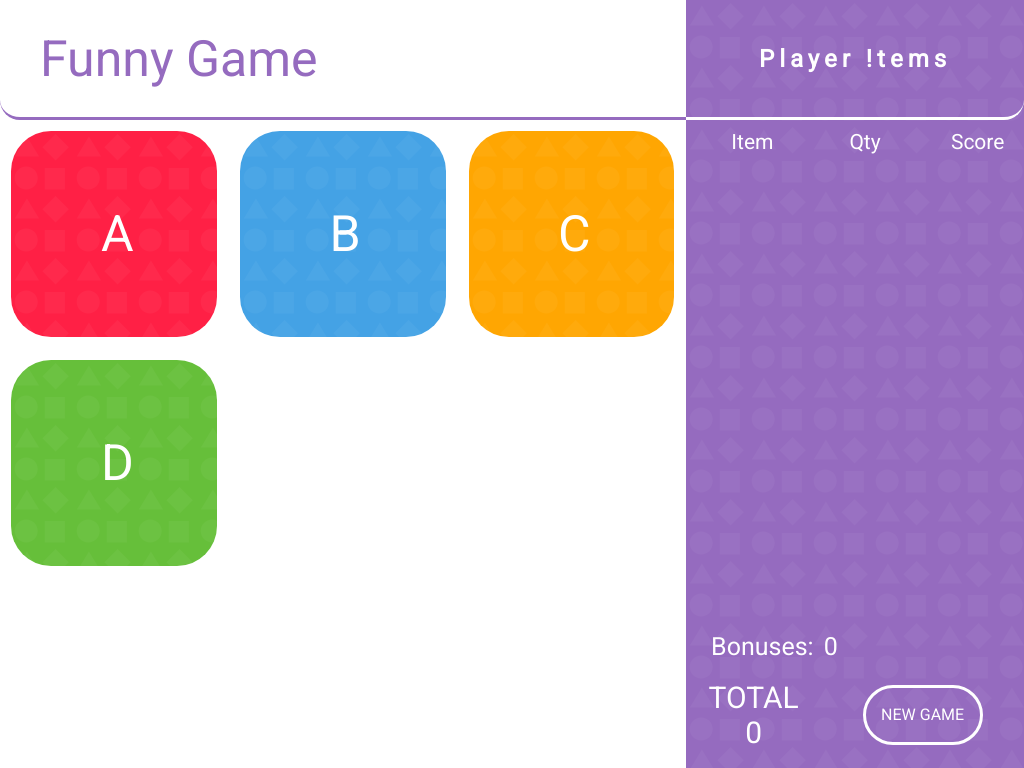
it: test menu › Bonus - A
Click the element showing "A": click(114, 234) [11, 131, 217, 337]
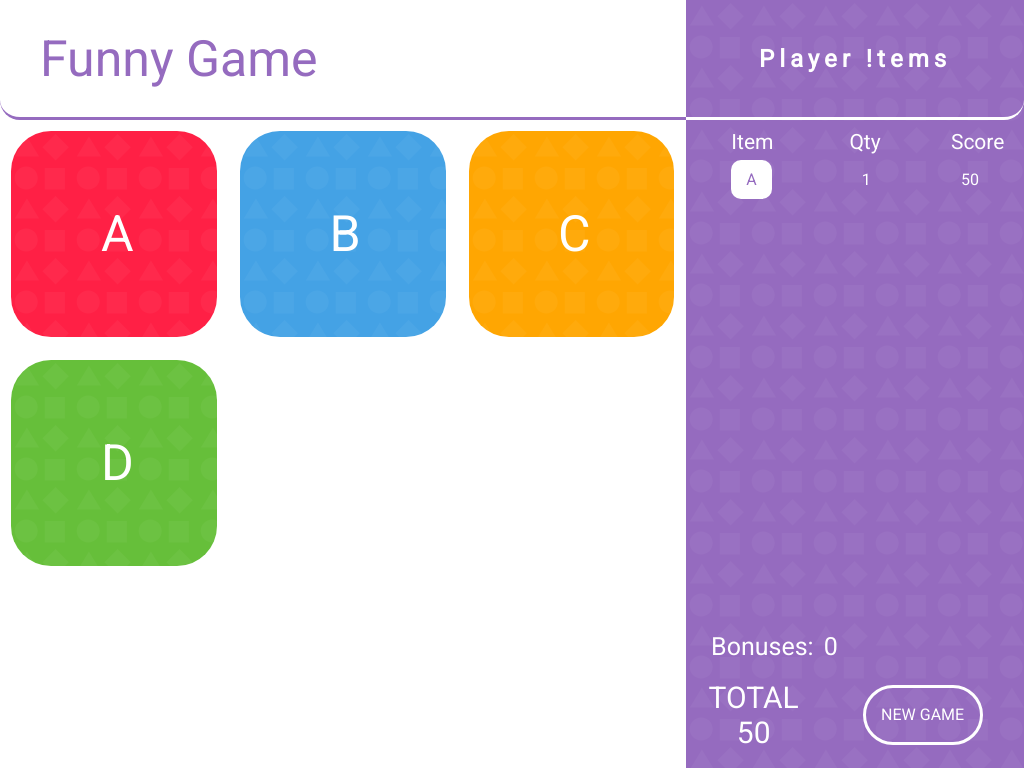
Click the element showing "A": click(114, 234) [11, 131, 217, 337]
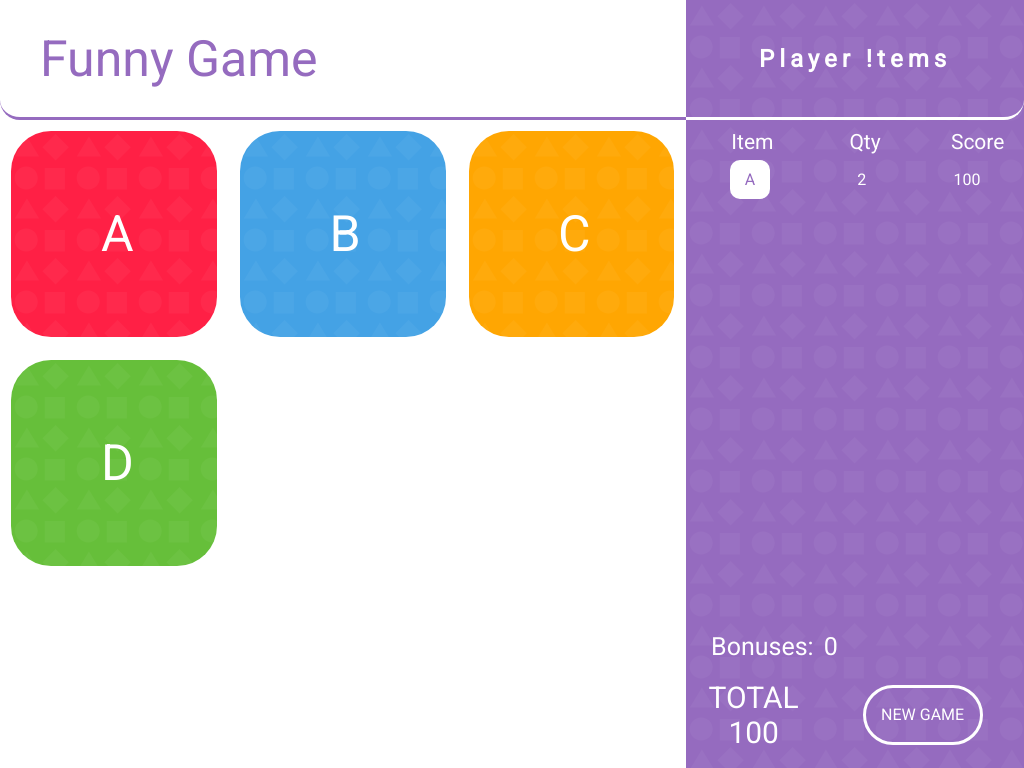
Click the element showing "A": click(114, 234) [11, 131, 217, 337]
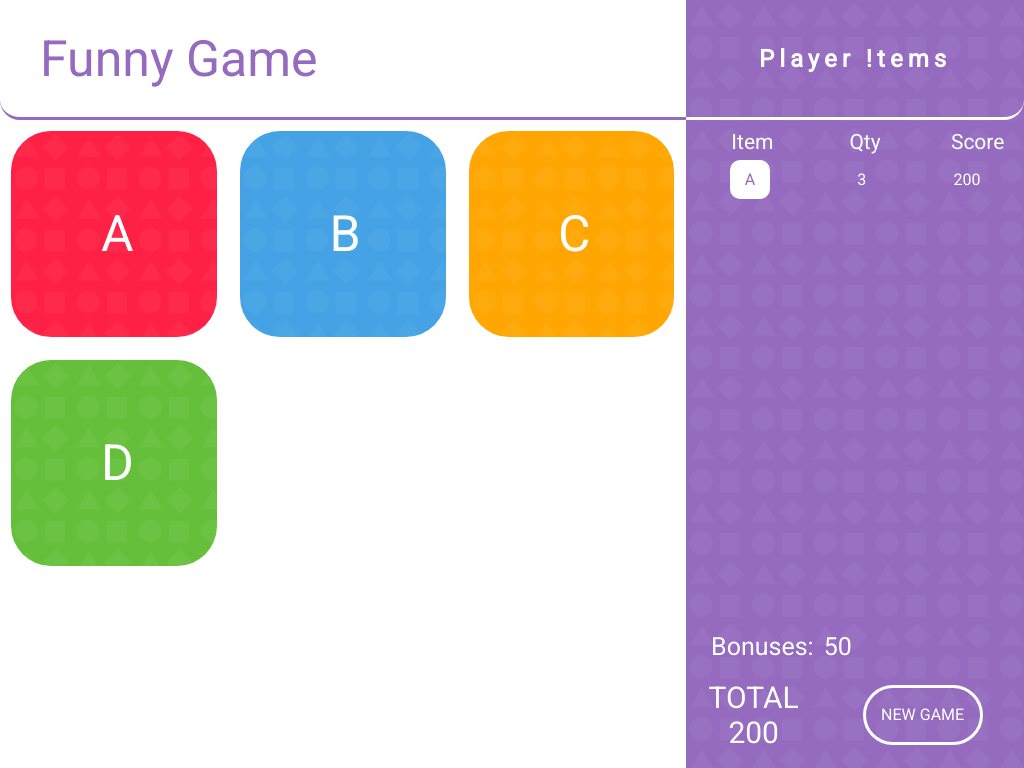
Result: the text "200" below "TOTAL" is shown at [728, 715, 779, 750]
Result: the text "50" is shown at [824, 632, 852, 661]
Result: the text "3" is shown at [857, 170, 866, 188]
